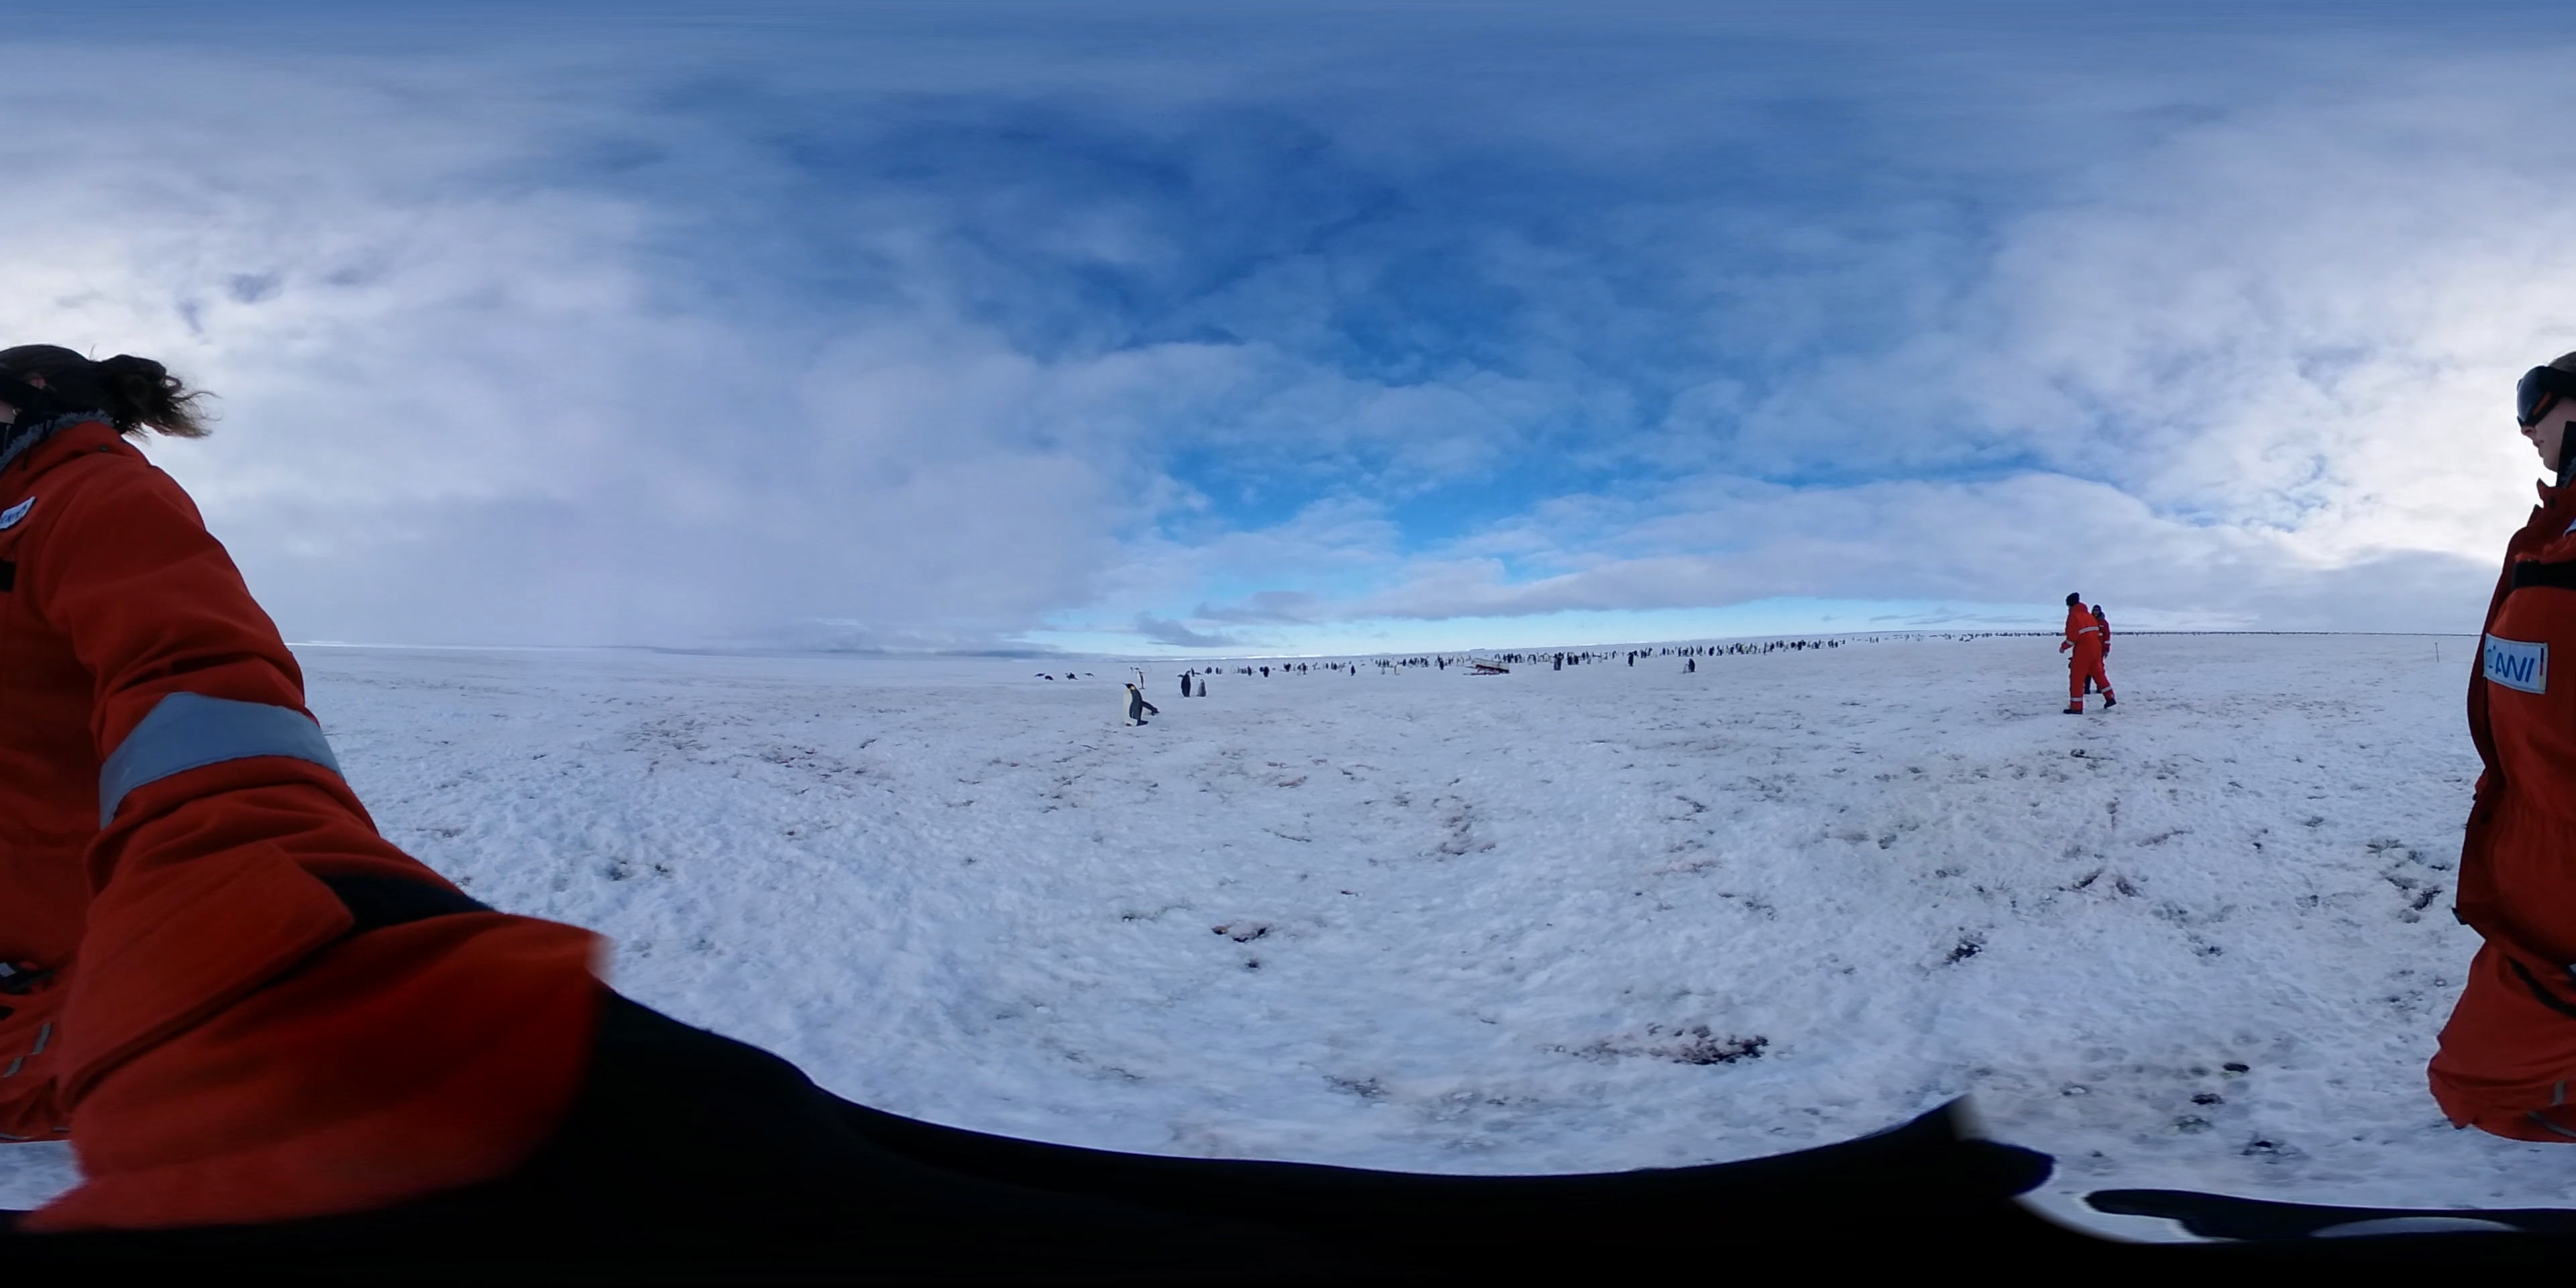adult_standing_penguin: (1120, 680, 1148, 728), (1178, 669, 1194, 700)
juvenile_penguin: (1193, 677, 1209, 698)
researcher: (7, 314, 585, 1258), (2420, 343, 2576, 1150), (2058, 590, 2118, 718), (2083, 598, 2114, 695)
